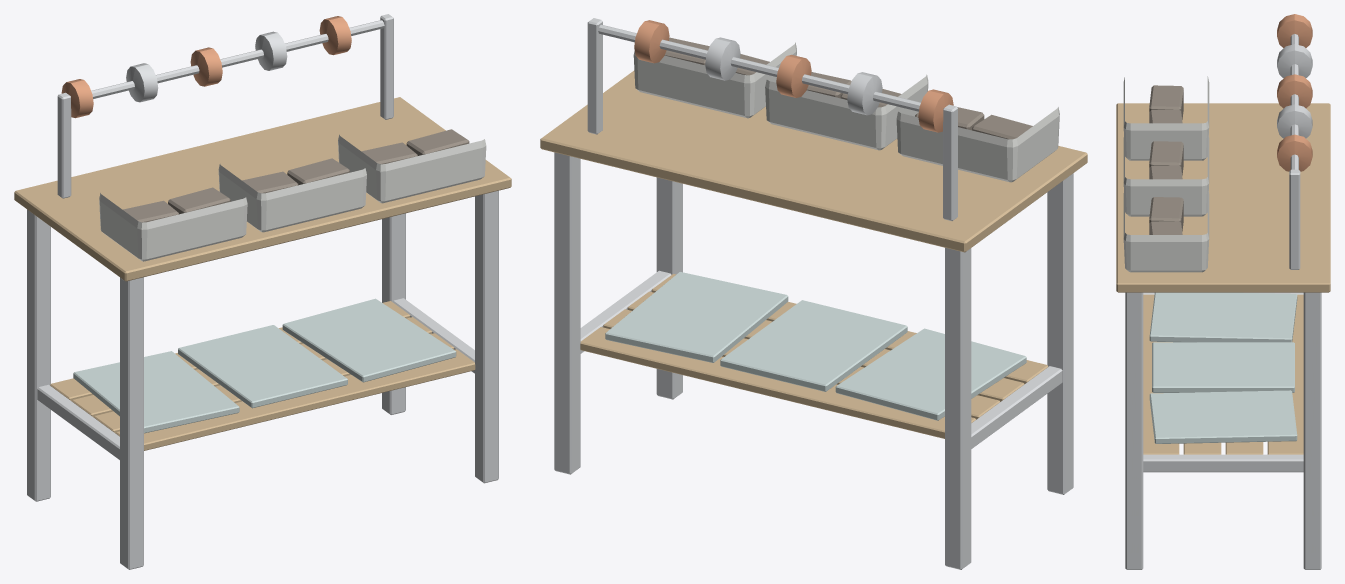
The model's file is garden-centre-and-florist-wire-and-foam-bench-6ce9e9f3__17766.glb.
3 renders of one model, left to right at view 1: azimuth 30°, elevation 25°; view 2: azimuth 150°, elevation 25°; view 3: azimuth 270°, elevation 25°, orthographic. The views are drawn at different scales.
Visible parts, largest first — view 1: wire-and-foam-bench; view 2: wire-and-foam-bench; view 3: wire-and-foam-bench.
Boxes of the visible parts, left/top/right/bottom form: wire-and-foam-bench: left=14, top=14, right=511, bottom=569; wire-and-foam-bench: left=540, top=18, right=1087, bottom=569; wire-and-foam-bench: left=1116, top=14, right=1330, bottom=569.
Size of the model in its own units: 1.2 by 1.23 by 0.6001.
